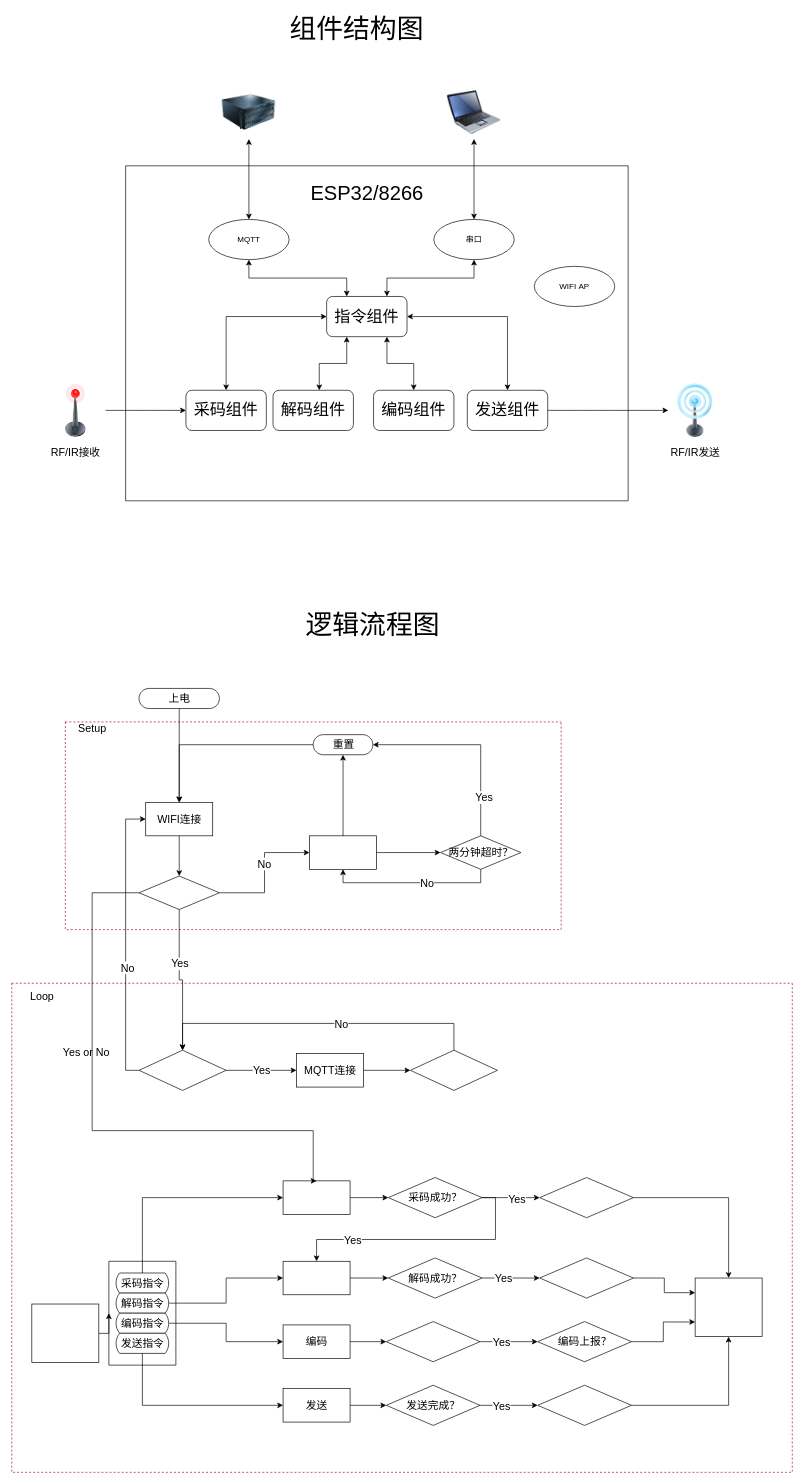
Some shapes in this 804 by 1484 pixel diagram are drawn without their labels. The shapes that lost their labels are listed below. From the top down, each one's centre as x and y in pixels, then its label:
At point 343,852: "WIFI AP配置".
At point 178,892: "连接成功？".
At point 182,1070: "WIFI 连接？".
At point 453,1070: "MQTT 连接？".
At point 316,1197: "采码".
At point 586,1197: "采码上报？".
At point 316,1278: "解码".
At point 586,1277: "解码上报？".
At point 728,1307: "MQTT上报 串口上报".
At point 65,1333: "MQTT指令 串口指令".
At point 433,1341: "编码成功？".
At point 584,1405: "上报？".
